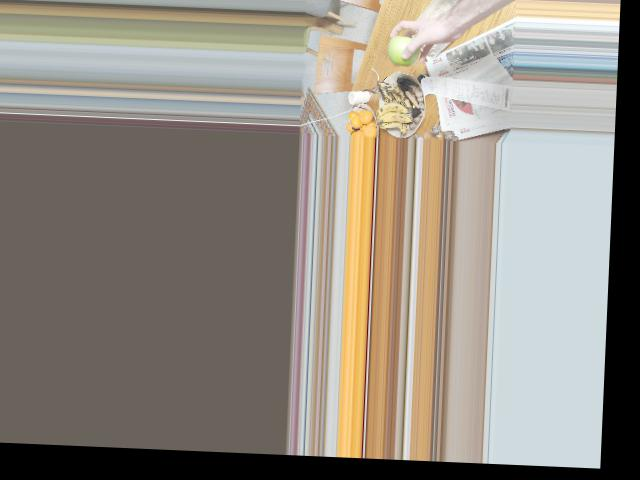apple: (387, 35, 420, 67)
